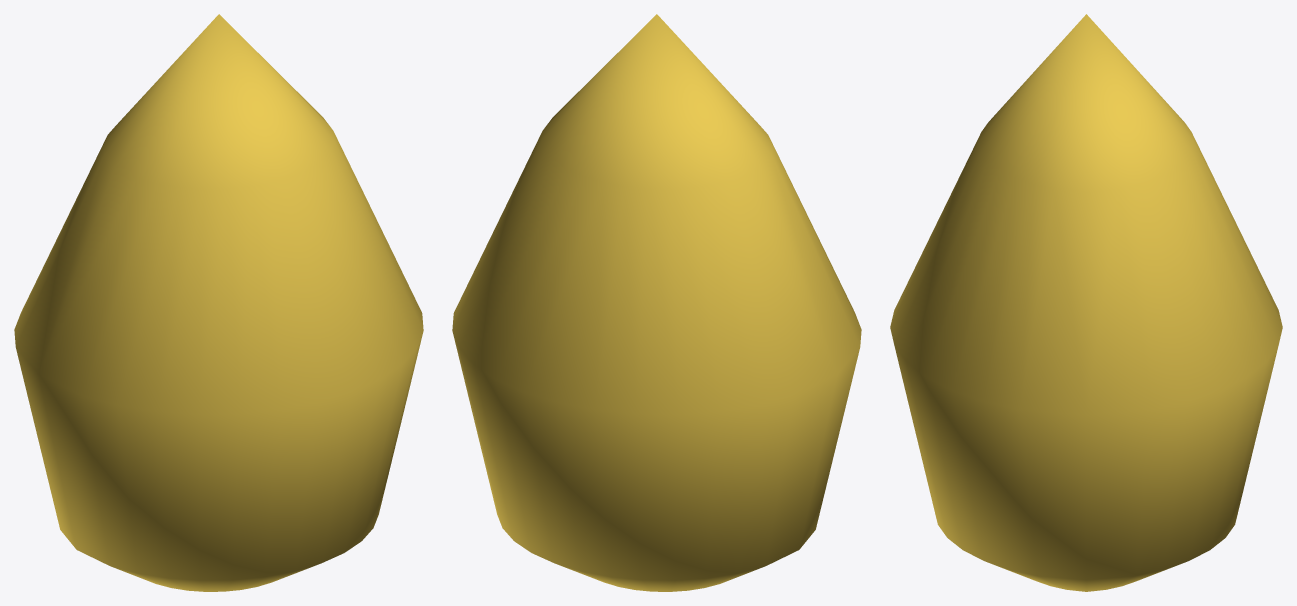
Rendered from droplet.glb.
3 renders of one model, left to right at view 1: azimuth 30°, elevation 25°; view 2: azimuth 150°, elevation 25°; view 3: azimuth 270°, elevation 25°, orthographic.
Parts seen in each view (by area): view 1: water bubbles; view 2: water bubbles; view 3: water bubbles.
Part boxes in pixels (<box>): water bubbles: <box>14,14,423,591</box>; water bubbles: <box>452,14,861,591</box>; water bubbles: <box>890,14,1282,591</box>.
Size of the model in its own units: 0.0277 by 0.0413 by 0.0263.
